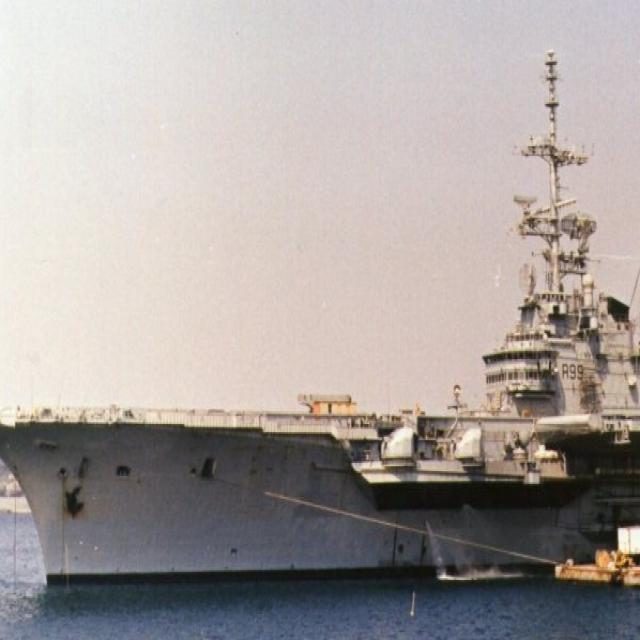Portanaves: (1, 37, 640, 602)
